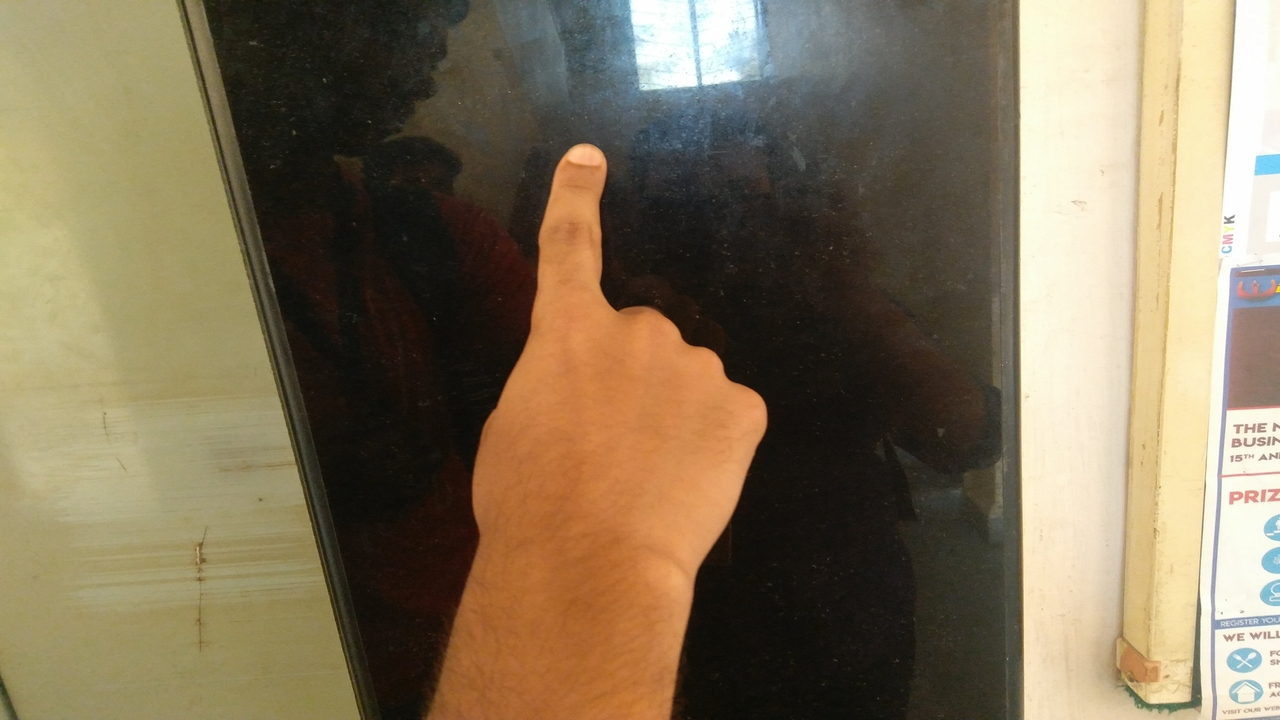fingertip: (548, 136, 608, 184)
